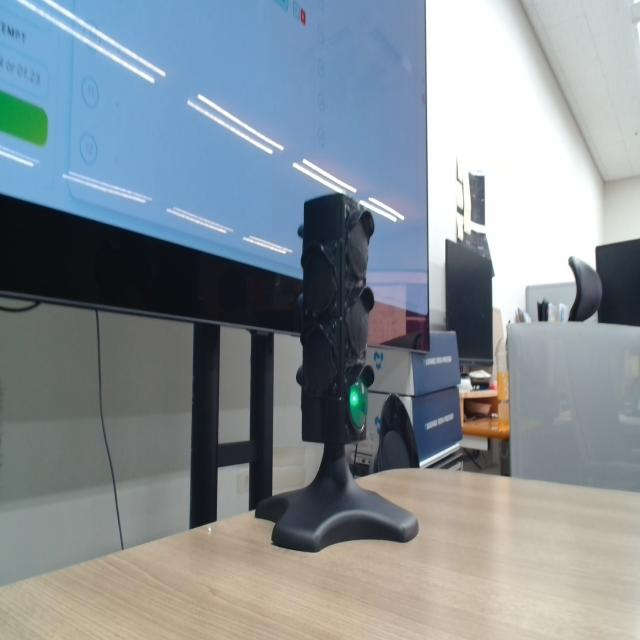green_light: (349, 381, 367, 431)
